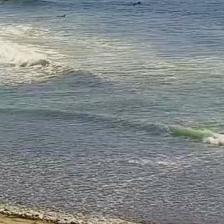surfer: (56, 14, 66, 18), (137, 1, 142, 5), (133, 3, 137, 6)
